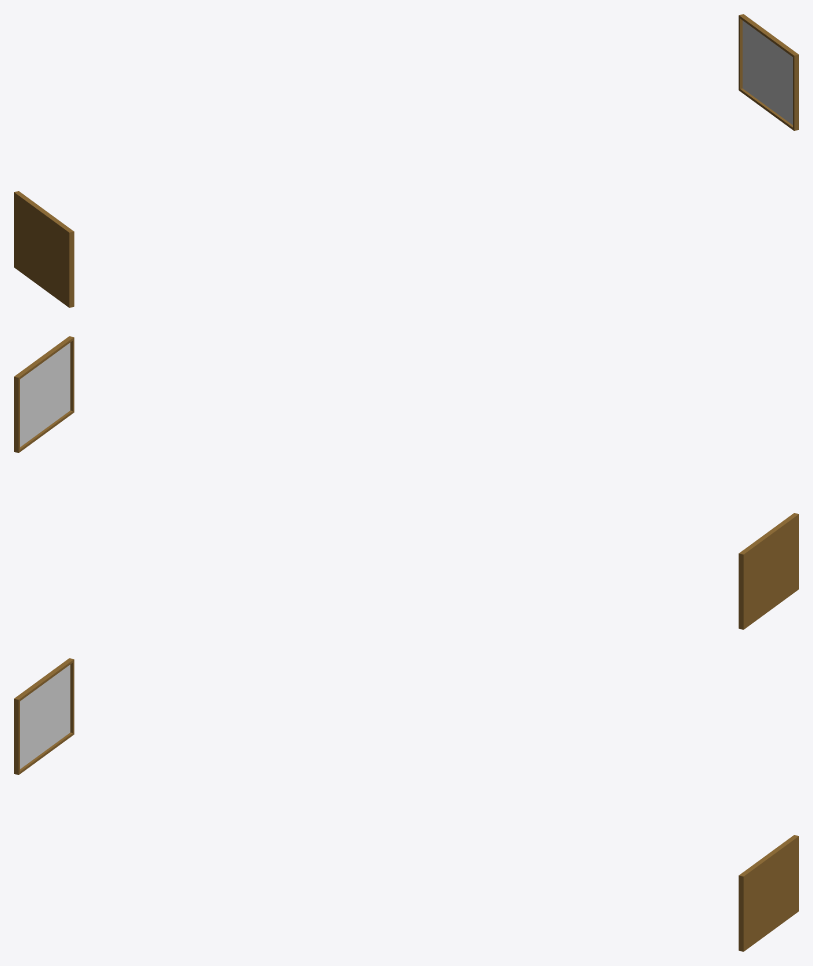
The model's file is frame_sithall.fbx.
The picture shows the model from 3 angles, top to bottom: view 1: azimuth 30°, elevation 25°; view 2: azimuth 150°, elevation 25°; view 3: azimuth 330°, elevation 25°; orthographic projection.
Visible parts, largest first — view 1: sithall_frame1, sithall_canvas2, sithall_frame2; view 2: sithall_frame1, sithall_canvas2, sithall_frame2; view 3: sithall_frame2, sithall_canvas1, sithall_frame1.
Part boxes in pixels (bbox=[...]): sithall_frame1: bbox=[14, 191, 74, 307]; sithall_canvas2: bbox=[742, 21, 792, 124]; sithall_frame2: bbox=[738, 14, 798, 130]; sithall_frame1: bbox=[738, 513, 798, 629]; sithall_canvas2: bbox=[20, 343, 70, 446]; sithall_frame2: bbox=[14, 336, 74, 452]; sithall_frame2: bbox=[738, 835, 798, 951]; sithall_canvas1: bbox=[20, 665, 70, 768]; sithall_frame1: bbox=[14, 658, 74, 774].
Bounding box in the file's own units: 1010 × 99.62 × 133.
